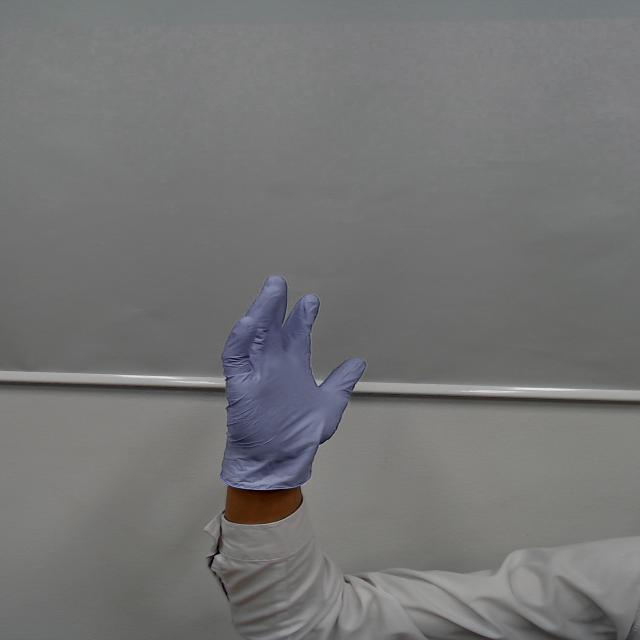glove: (195, 265, 378, 480)
